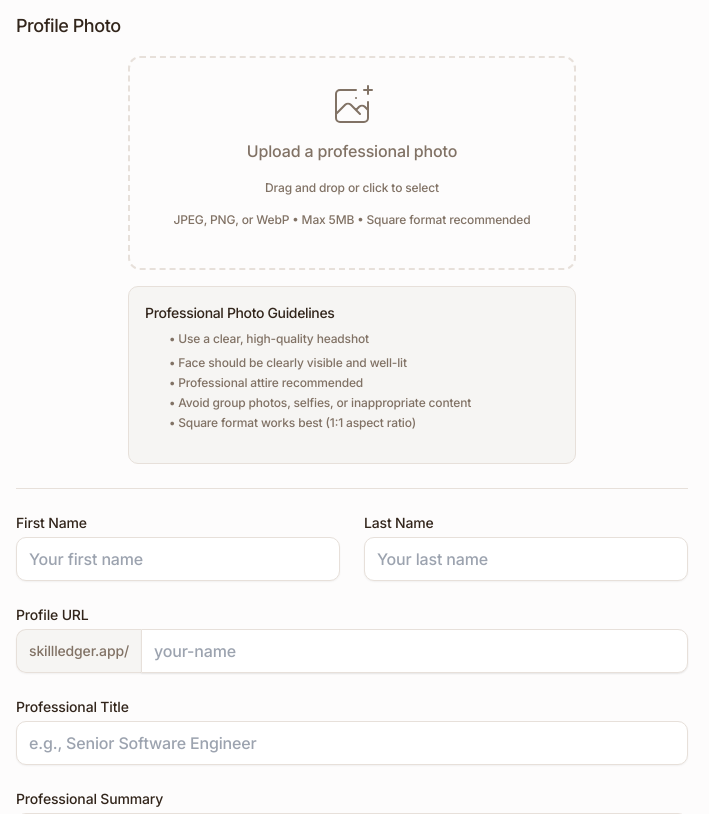
Test: EnhancedProfileCreationForm › Slug Availability Checking › should show success when slug is available
The width and height of the screenshot is (709, 814).
Type "available-slug" into the field labelled "Profile URL".
click(414, 651); type("available-slug")  # box [141, 629, 688, 673]
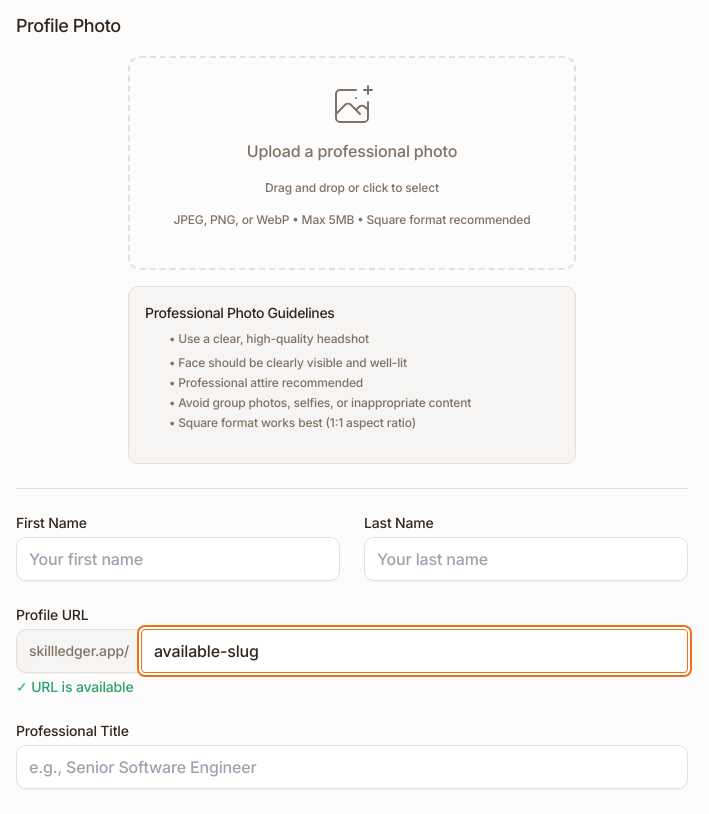
Result: the text "✓ URL is available" is shown at [16, 678, 134, 695]
